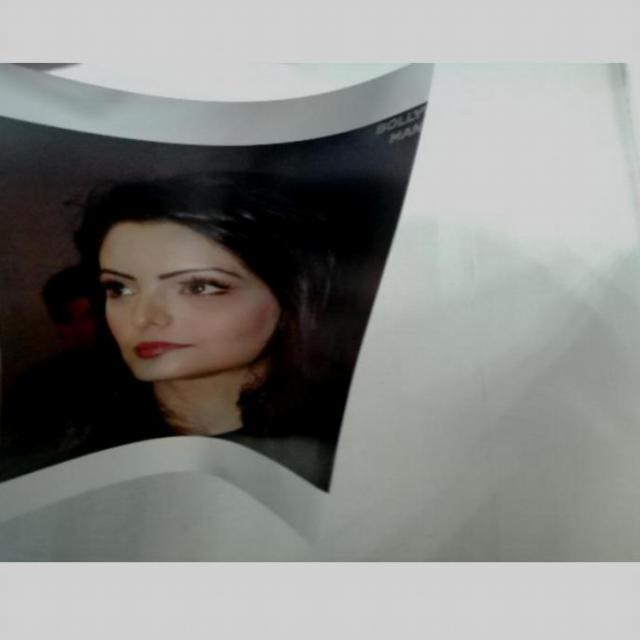photo: (0, 63, 425, 539)
